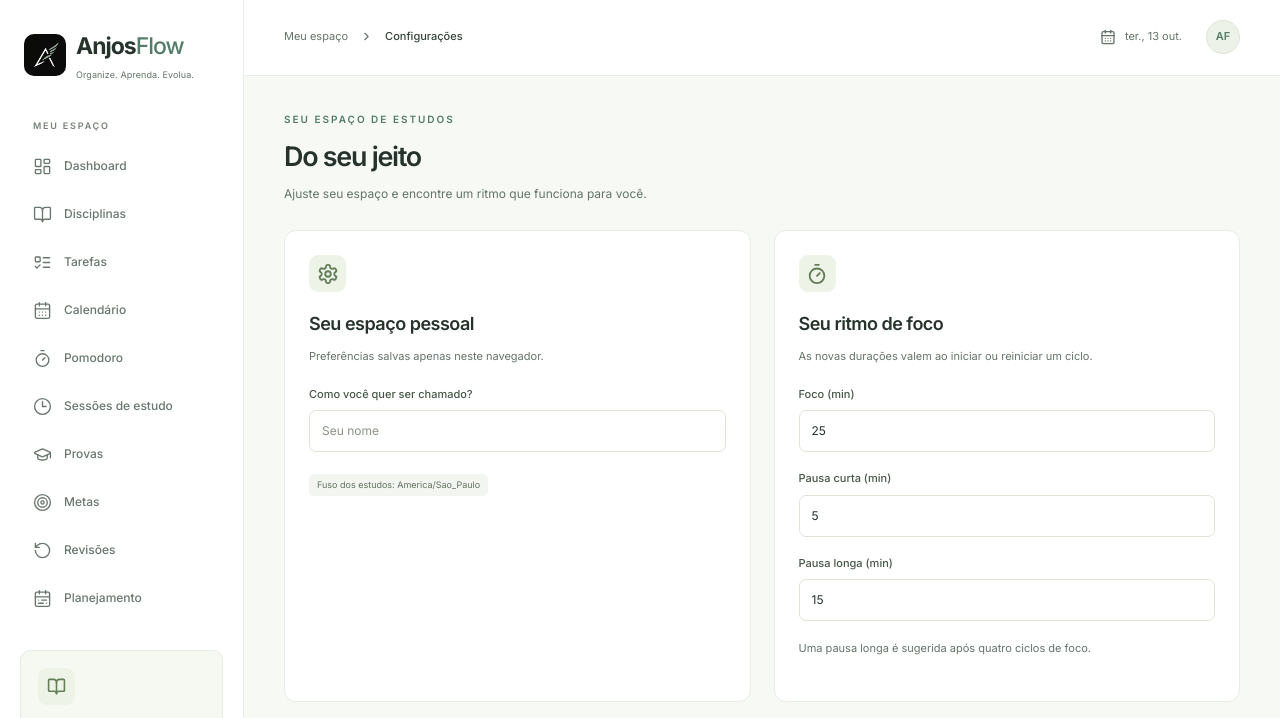
Scenario: preferências são salvas localmente
Type "Carlos" into the field labelled "Como você quer ser chamado?".
click(517, 431); type("Carlos")  # box [309,410,726,452]
(page scrolled)
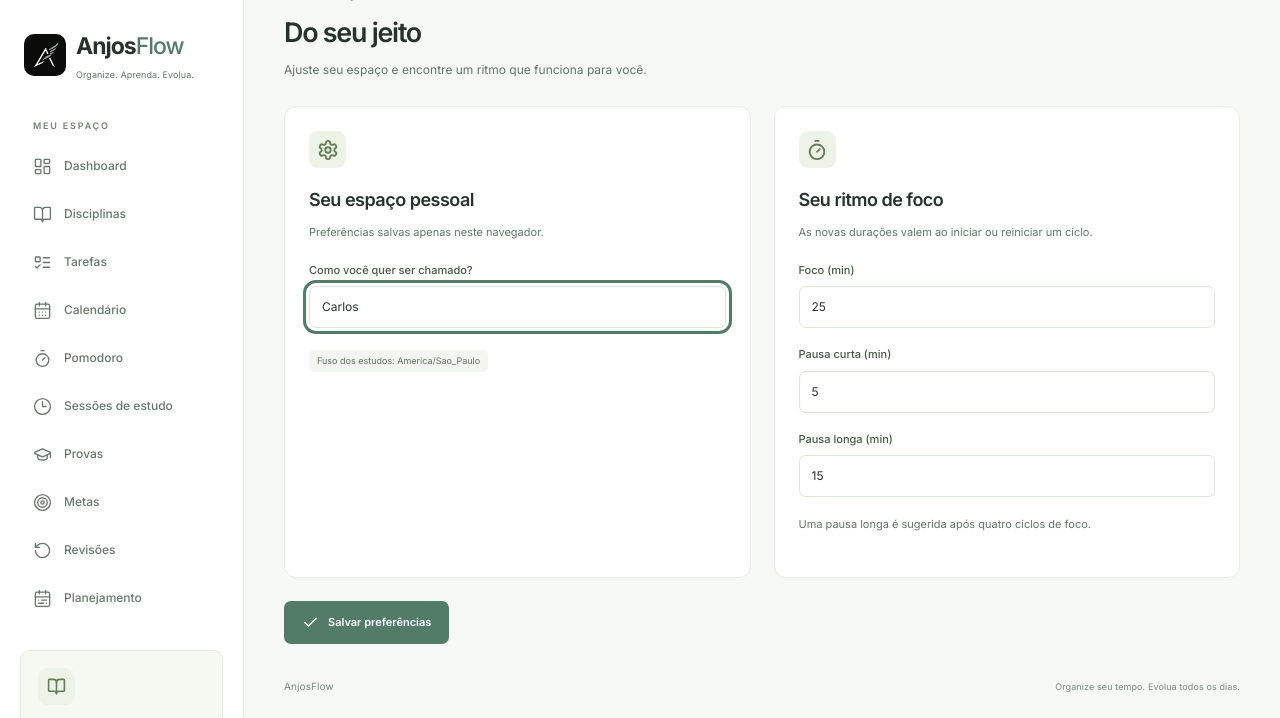
Click the button "Salvar preferências".
click(367, 623)  # box [284,601,449,644]
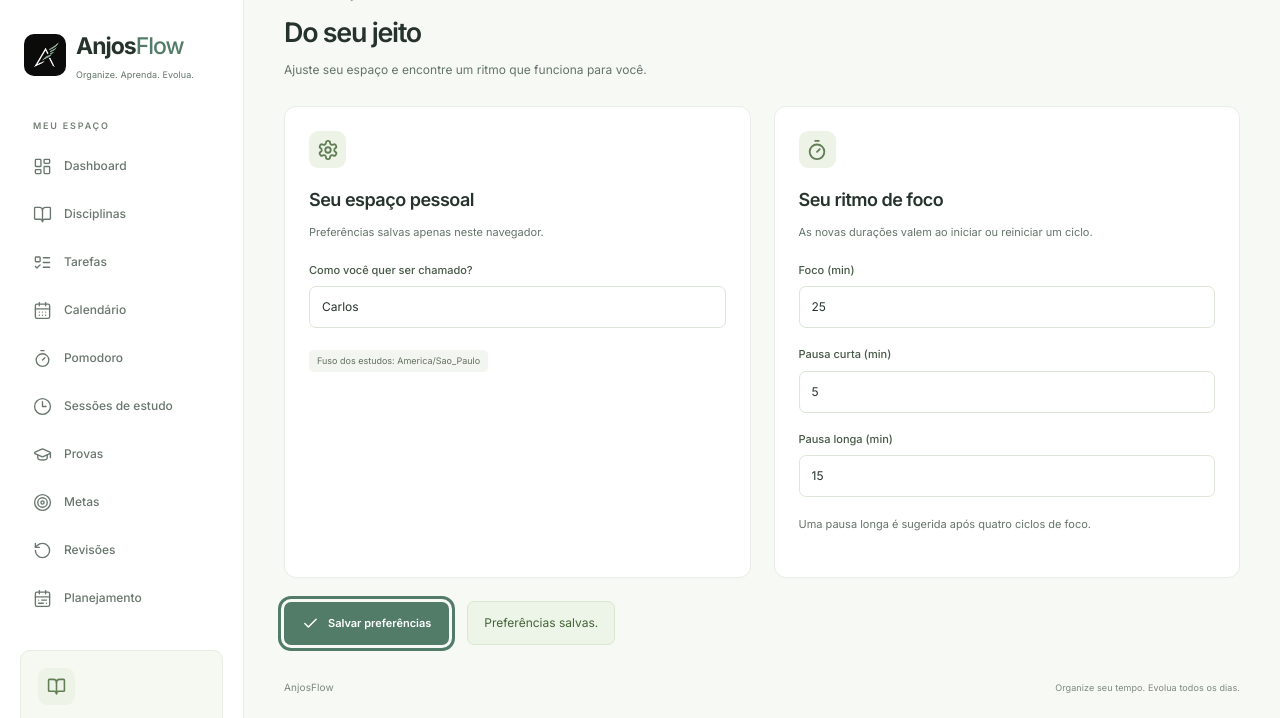
Check: the text "Preferências salvas." is shown, box [467,601,615,645]
